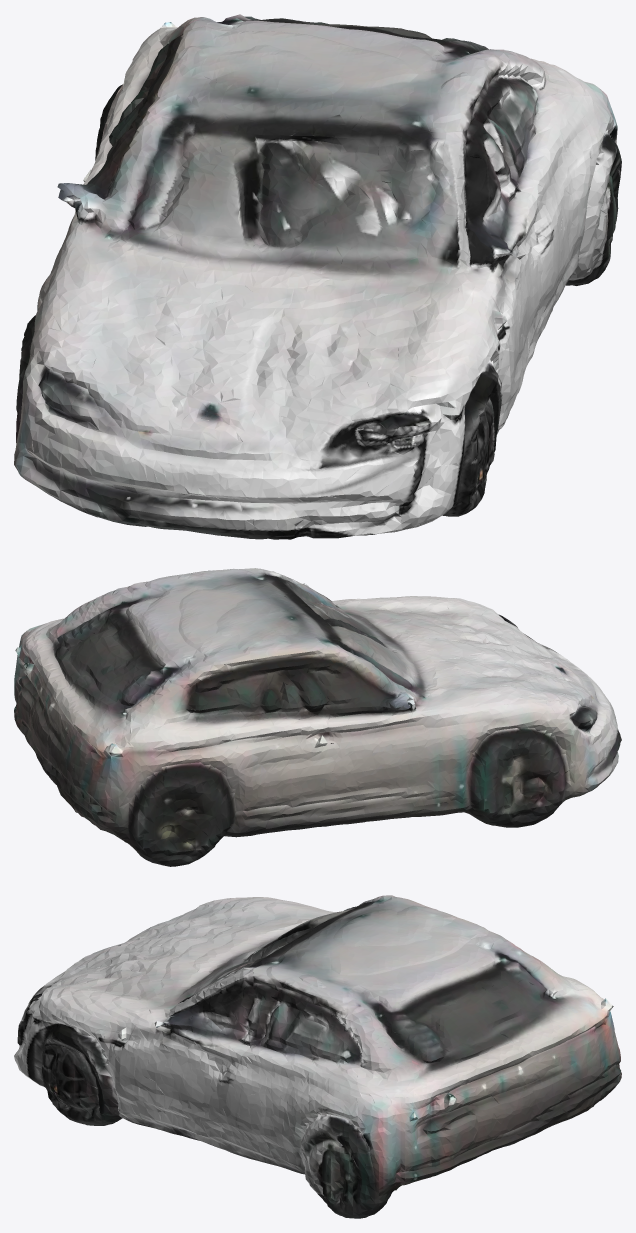
Rendered from porsche-taycan.glb.
The picture shows the model from 3 angles, top to bottom: view 1: azimuth 30°, elevation 25°; view 2: azimuth 150°, elevation 25°; view 3: azimuth 270°, elevation 25°; orthographic projection. The views are drawn at different scales.
Parts seen in each view (by area): view 1: geometry_0; view 2: geometry_0; view 3: geometry_0.
Part boxes in pixels (x1=…): geometry_0: x1=14, y1=14, x2=621, y2=539; geometry_0: x1=14, y1=568, x2=621, y2=866; geometry_0: x1=14, y1=895, x2=621, y2=1218.
Bounding box in the file's own units: 0.925 × 0.3517 × 0.952.
1 material, 1 textured.
